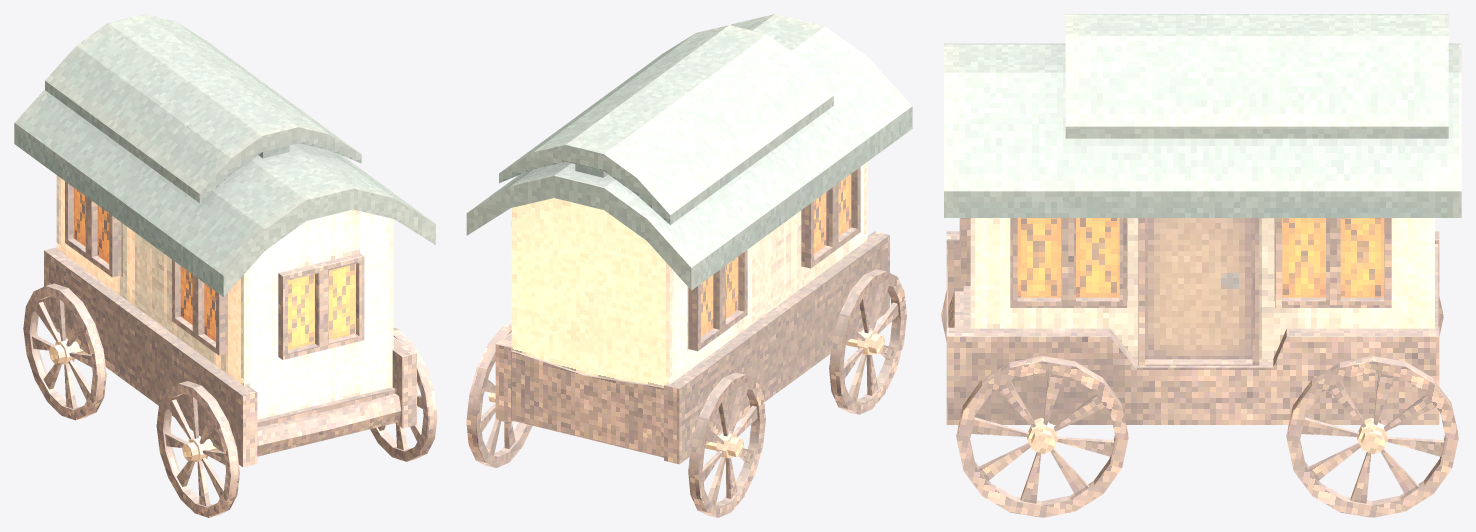
File: cart_4.glb
3 renders of one model, left to right at view 1: azimuth 30°, elevation 25°; view 2: azimuth 150°, elevation 25°; view 3: azimuth 270°, elevation 25°, orthographic. The views are drawn at different scales.
Parts seen in each view (by area): view 1: Cart_4, Wheels_1, Wheels_1.003; view 2: Cart_4, Wheels_1.003, Wheels_1; view 3: Cart_4, Wheels_1, Wheels_1.003.
Boxes of the visible parts, x1,y1,x2,y2 form: Cart_4: (14, 14, 435, 467); Wheels_1: (156, 328, 437, 517); Wheels_1.003: (23, 283, 106, 420); Cart_4: (466, 14, 912, 464); Wheels_1.003: (466, 323, 765, 517); Wheels_1: (829, 269, 906, 414); Cart_4: (944, 14, 1461, 424); Wheels_1: (941, 291, 1128, 517); Wheels_1.003: (1286, 297, 1458, 517).
Size of the model in its own units: 6.36 by 9.25 by 10.2.
